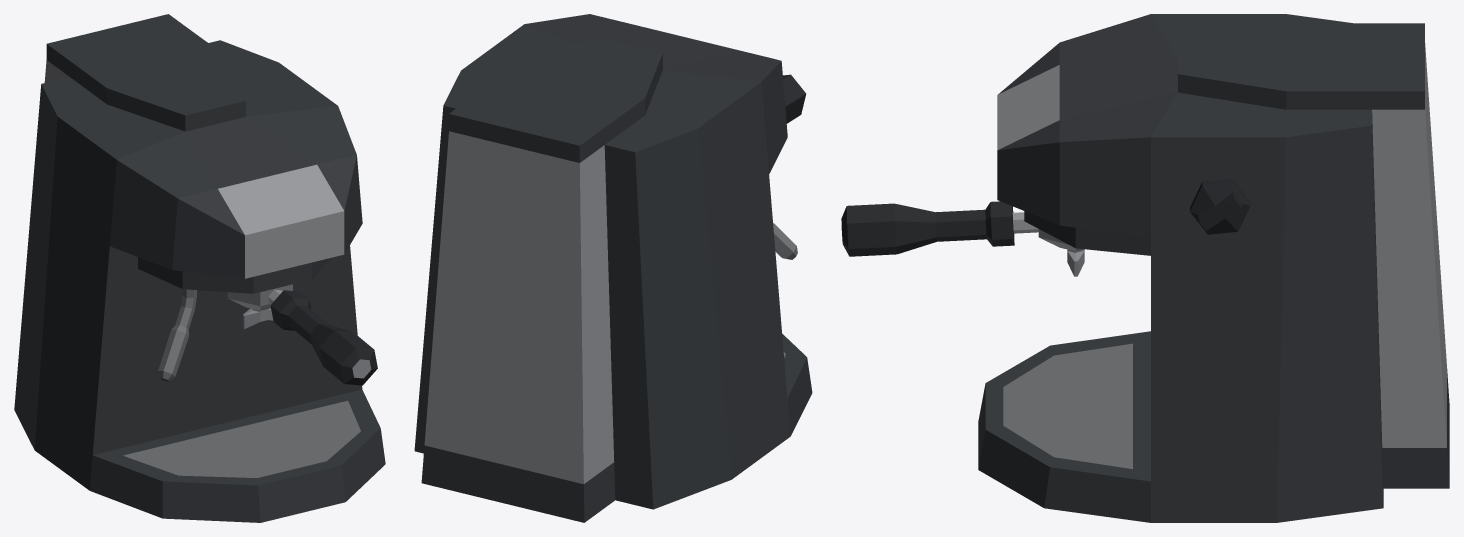
File: SM_Prop_CoffeeMachine_Small_01.glb
3 views of the same model, side by side, from view 1: azimuth 30°, elevation 25°; view 2: azimuth 150°, elevation 25°; view 3: azimuth 270°, elevation 25° (orthographic). The views are drawn at different scales.
Parts seen in each view (by area): view 1: SM_Prop_CoffeeMachine_Small_01; view 2: SM_Prop_CoffeeMachine_Small_01; view 3: SM_Prop_CoffeeMachine_Small_01.
Boxes of the visible parts, x1=… form: SM_Prop_CoffeeMachine_Small_01: x1=14, y1=14, x2=385, y2=522; SM_Prop_CoffeeMachine_Small_01: x1=414, y1=14, x2=812, y2=522; SM_Prop_CoffeeMachine_Small_01: x1=841, y1=14, x2=1449, y2=522.
Bounding box in the file's own units: 0.5956 × 0.7017 × 0.9942.
2 materials, 2 textured.
